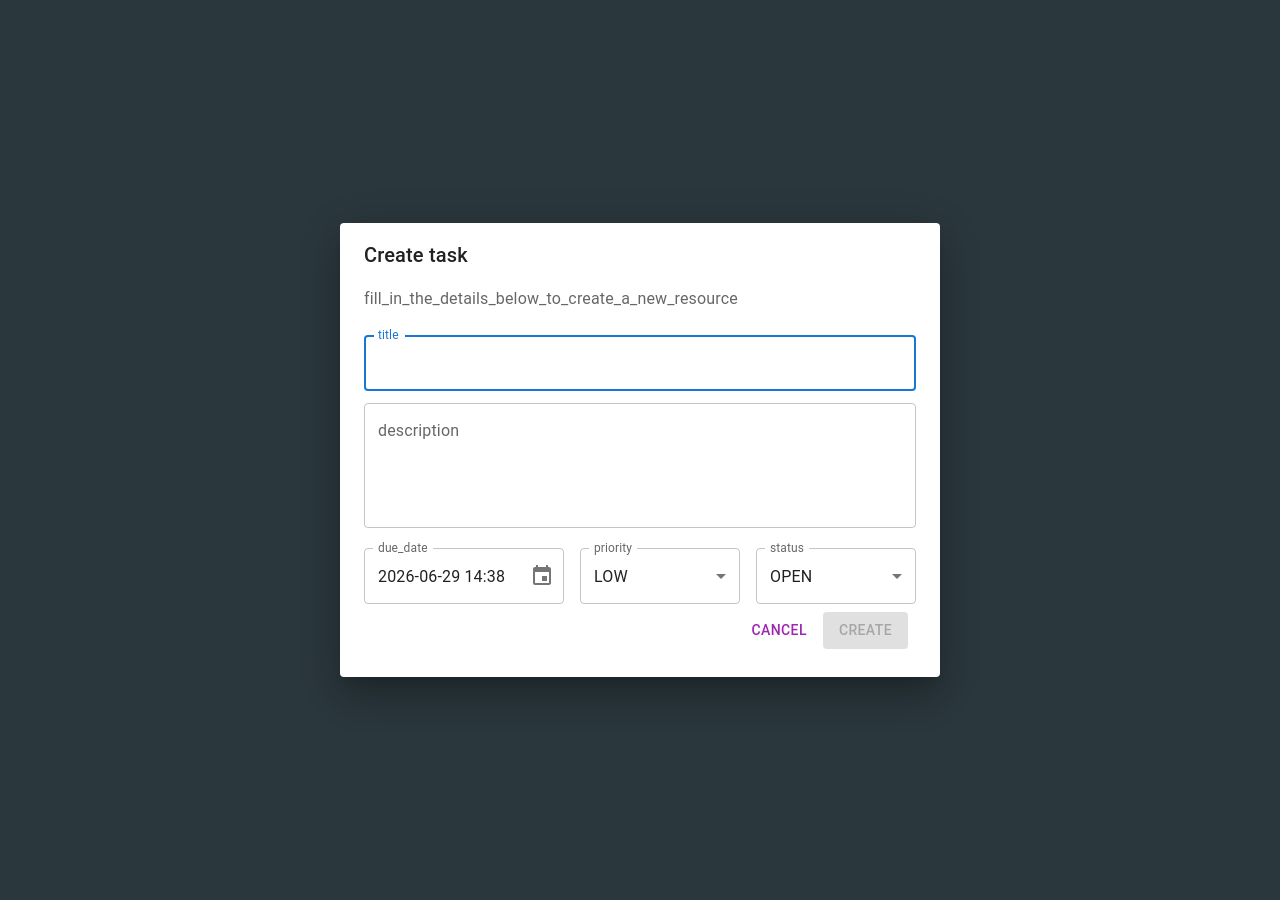
Test: <TaskDialog /> › enables submit after a title is entered
This screenshot has width=1280, height=900.
In the field labelled "title": (640, 363) x1=364 y1=335 x2=916 y2=391, type "Write tests"
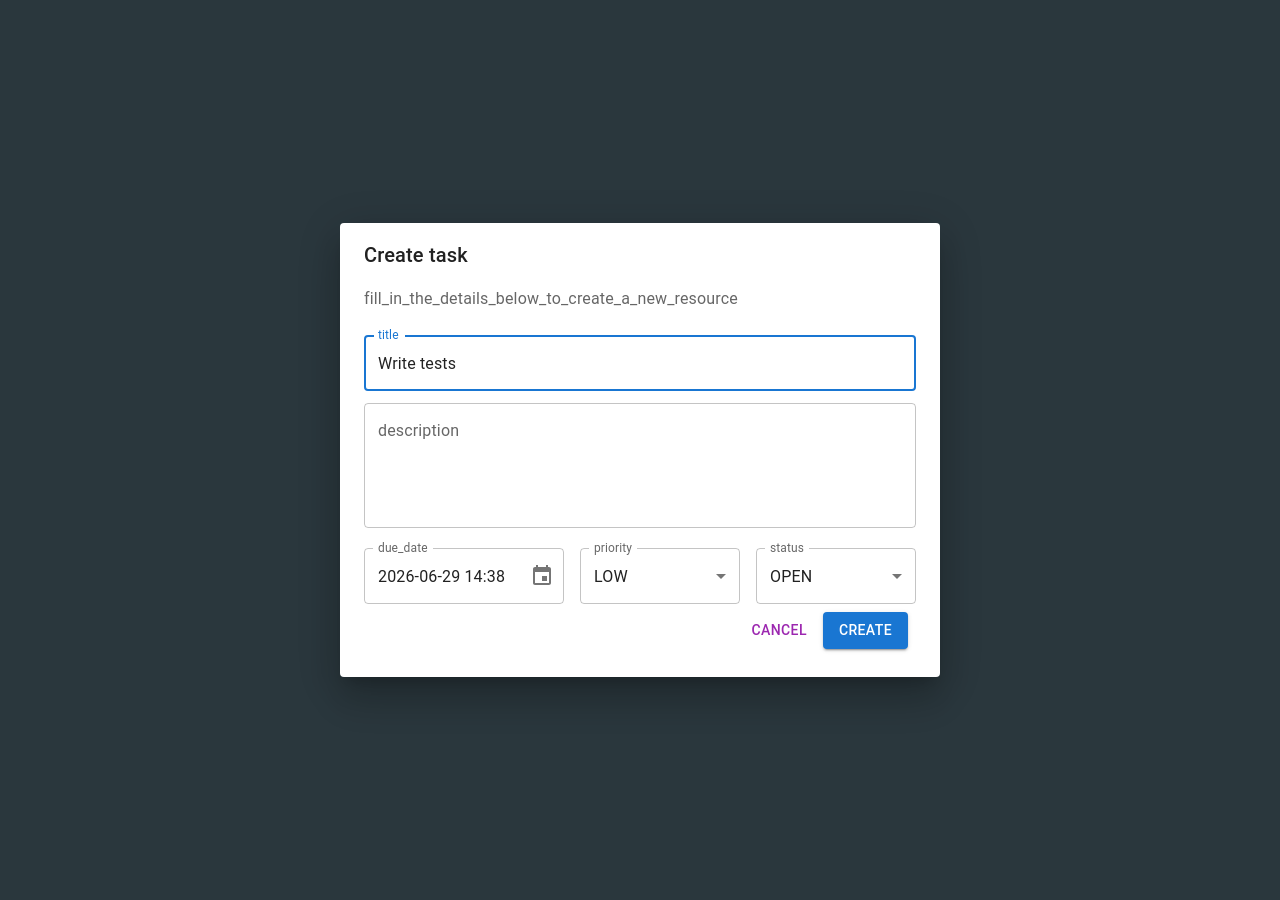
Check: the button "create" is enabled, box x1=823 y1=612 x2=908 y2=649
